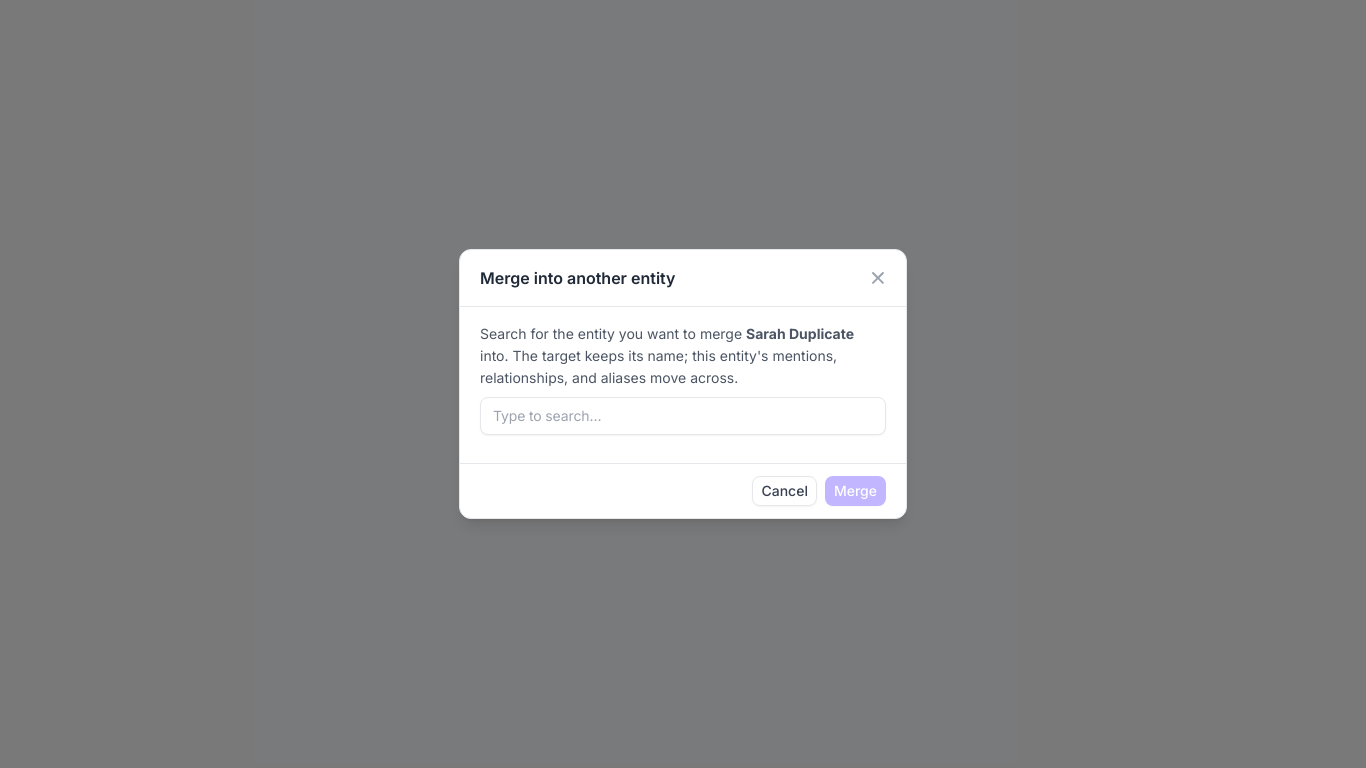
EntityMergeIntoDialog › surfaces server errors during merge
In the field with test id "merge-into-search": [683, 416] box x1=480 y1=397 x2=886 y2=435, type "Sarah"
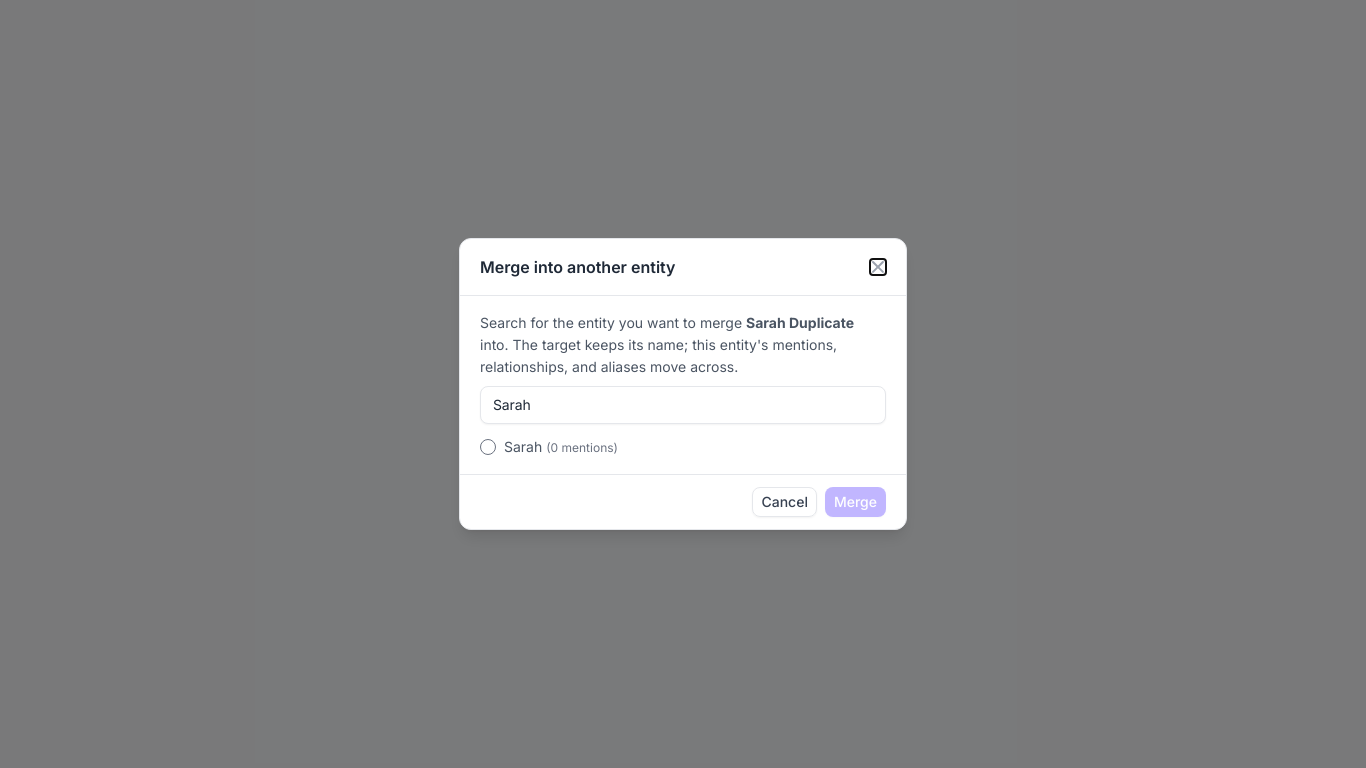
Click the radio button with test id "merge-into-radio-7": [488, 447] box x1=480 y1=439 x2=496 y2=455
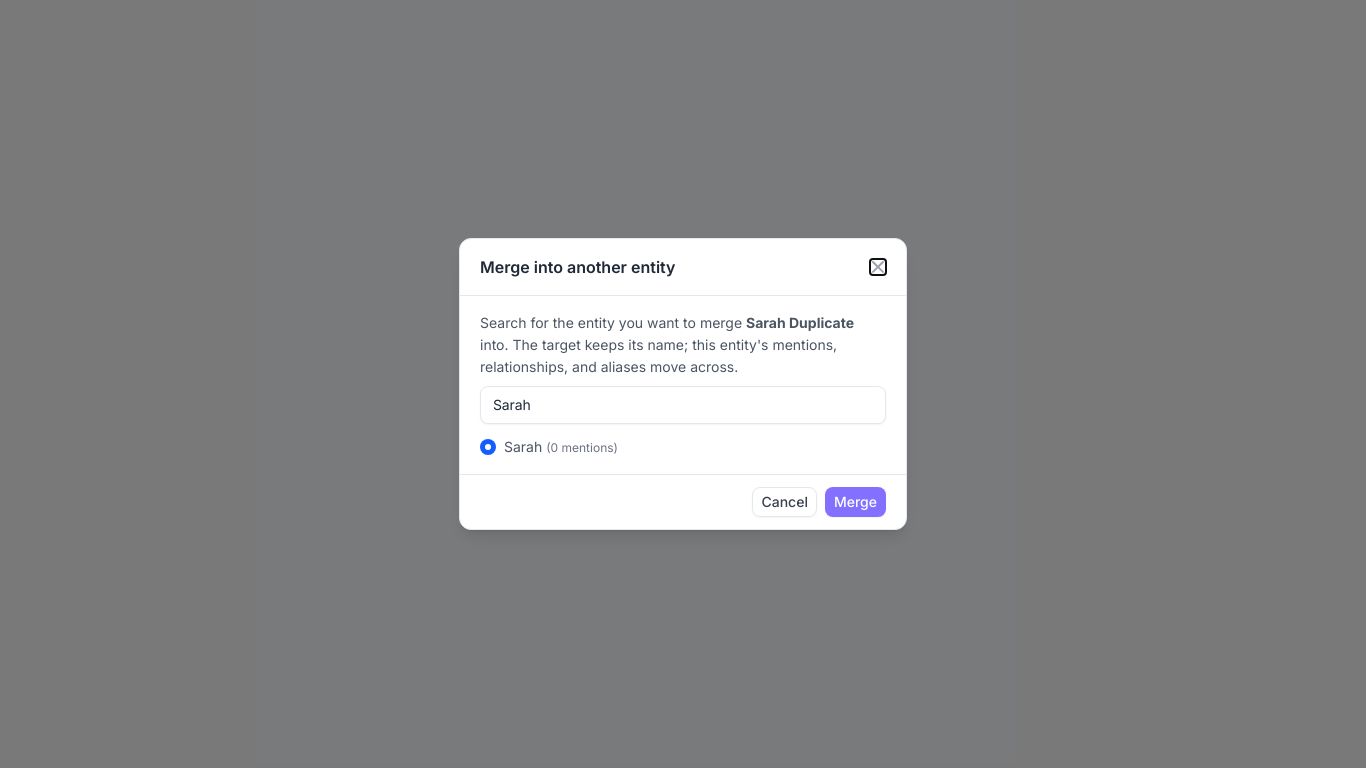
Click the button with test id "merge-into-confirm": [856, 502] box x1=825 y1=487 x2=886 y2=517
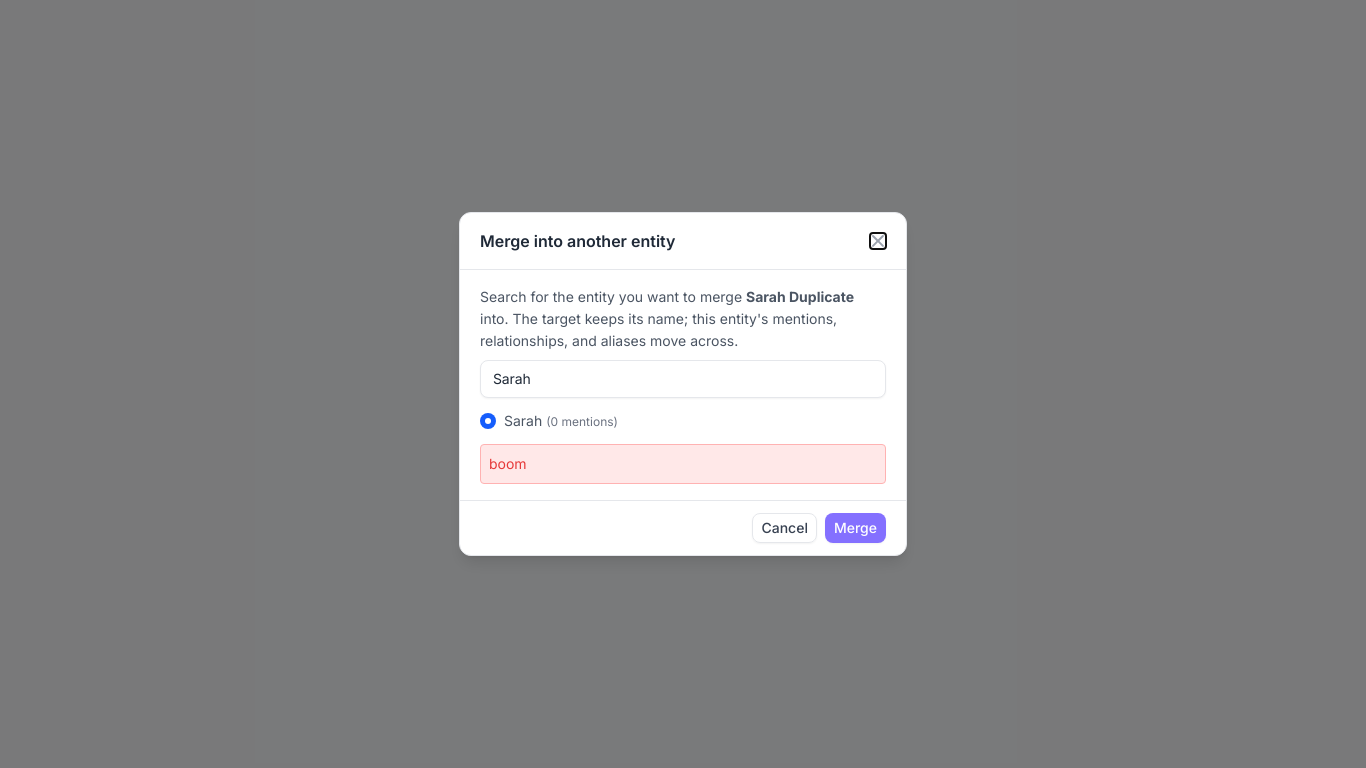
Now the text with test id "merge-into-error" reads "boom", box x1=489 y1=455 x2=527 y2=472
